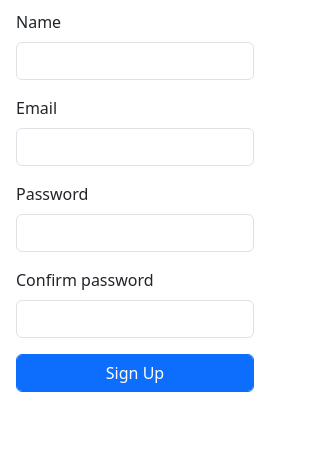
Test case: SignupPageComponent › when user interact with password field › should display error message when field contain less than 8 characters
In the password field with test id "password": (135, 233) [16, 214, 254, 252], type "Ab1$e"
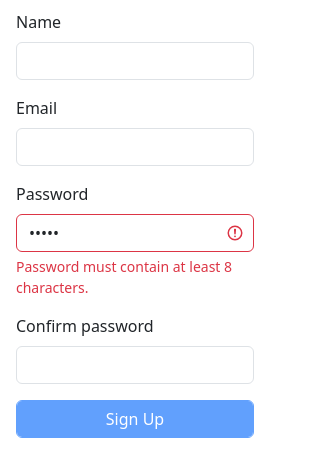
Expected: the text with test id "error-password-minlength" reads "Password must contain at least 8 characters.", [16, 257, 232, 297]
